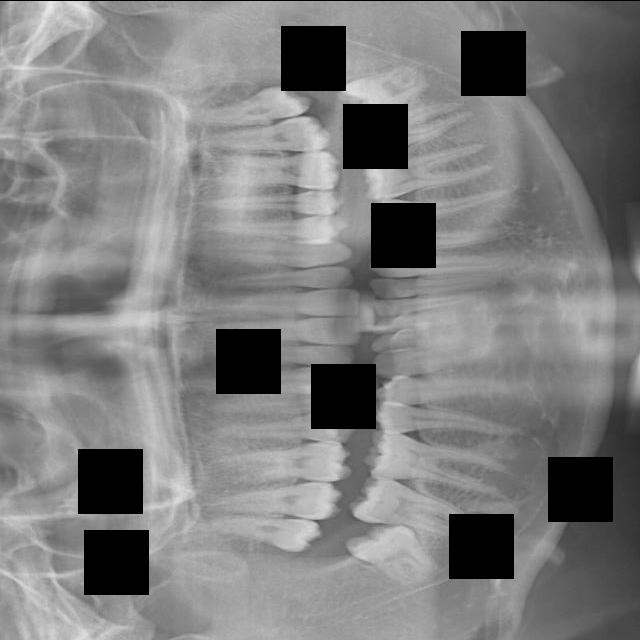3M ESPE Implant: (197, 511, 324, 553)
AGS Medikal Implant: (398, 112, 399, 112)
AMerOss Implant: (359, 140, 498, 202)
Amalgam filling: (195, 473, 344, 521)
Anthogyr Implant: (367, 182, 520, 228)
Bicon Implant: (369, 225, 514, 253)
BioHorizons Implant: (369, 253, 507, 276)
BioLife Implant: (368, 272, 496, 299)
Biomet 3i Implant: (373, 292, 476, 317)
Blue Sky Bio Implant: (370, 297, 475, 335)
Camlog Implant: (369, 313, 480, 355)
Caries: (209, 265, 354, 290)
Composite filling: (367, 332, 495, 383)
Cowellmedi Implant: (373, 375, 514, 405)
Crown: (370, 401, 527, 446)
DENTSPLY Implant: (219, 441, 352, 485)
Dentatus Implant: (359, 425, 511, 508)
Dentis Implant: (347, 473, 488, 550)
Dentium Implant: (341, 504, 443, 596)
Euroteknika Implant: (214, 417, 356, 443)
Filling: (210, 394, 356, 420)
Frontier Implant: (177, 366, 357, 394)
Hiossen Implant: (181, 239, 353, 267)
Implant: (195, 317, 362, 345)
Implant Direct: (204, 340, 355, 368)
Keystone Dental Implant: (190, 287, 360, 316)
MIS Implant: (204, 214, 348, 237)
Mandible: (193, 188, 343, 220)
Maxilla: (213, 150, 341, 191)
Megagen Implant: (200, 114, 332, 154)
Neodent Implant: (183, 80, 314, 131)
Neoss Implant: (332, 58, 434, 126)
